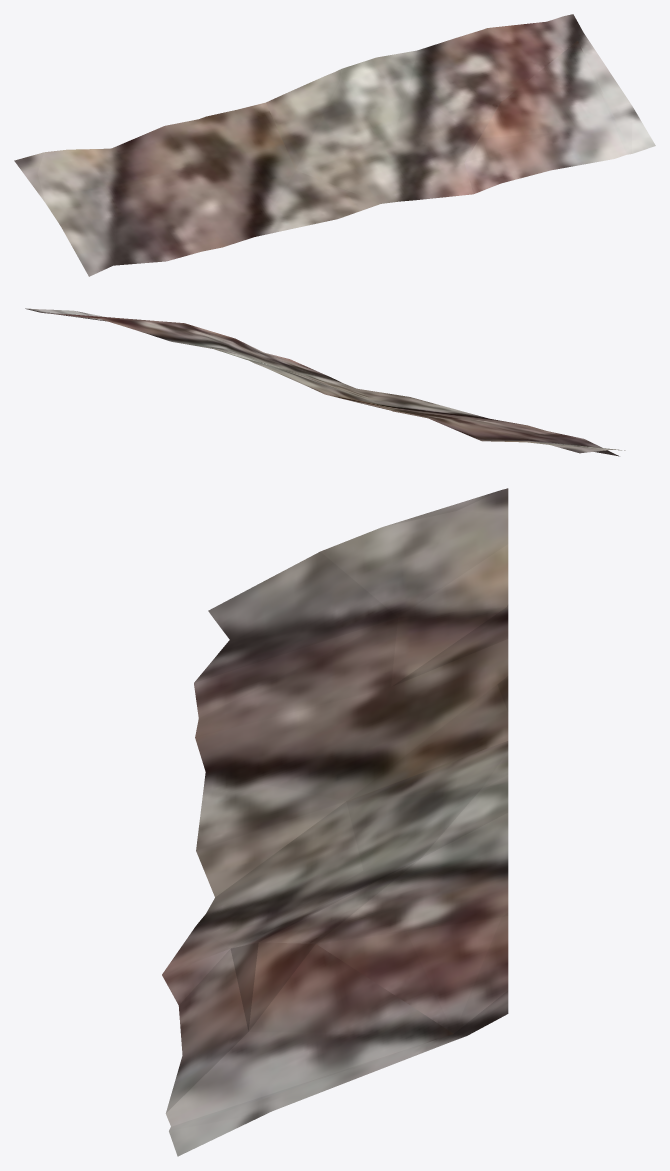
3 renders of one model, top to bottom at view 1: azimuth 30°, elevation 25°; view 2: azimuth 150°, elevation 25°; view 3: azimuth 270°, elevation 25°, orthographic. The views are drawn at different scales.
Size of the model in its own units: 0.8373 by 0.1122 by 0.2245.
1 material, 1 textured.
